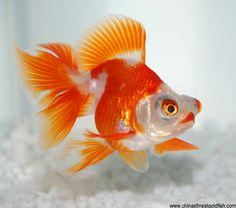goldfish: (46, 37, 215, 172)
